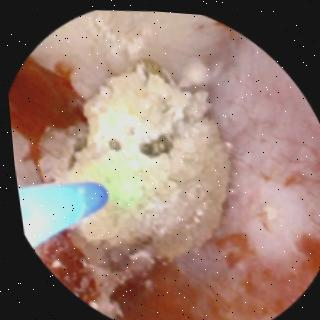fiber: (15, 184, 103, 246)
laser: (107, 171, 136, 206)
stone: (40, 58, 228, 268)
tissue: (8, 9, 320, 320)
